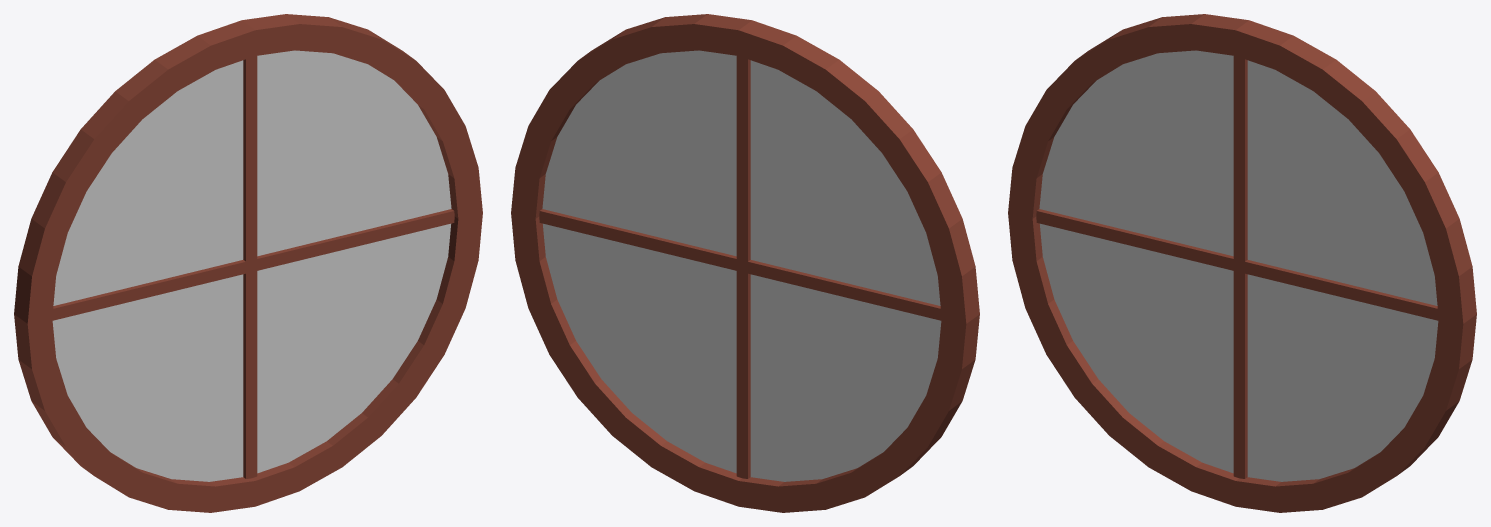
File: fenetre.glb
The picture shows the model from 3 angles, left to right: view 1: azimuth 30°, elevation 25°; view 2: azimuth 150°, elevation 25°; view 3: azimuth 330°, elevation 25°; orthographic projection.
Parts seen in each view (by area): view 1: Cylinder.001, Cylinder; view 2: Cylinder.001, Cylinder; view 3: Cylinder.001, Cylinder.
Boxes of the visible parts, x1,y1,x2,y2 form: Cylinder.001: (52, 50, 451, 481); Cylinder: (14, 14, 482, 512); Cylinder.001: (542, 50, 941, 481); Cylinder: (511, 14, 979, 512); Cylinder.001: (1039, 50, 1438, 481); Cylinder: (1008, 14, 1476, 512).
Size of the model in its own units: 0.463 by 0.463 by 0.0241.
